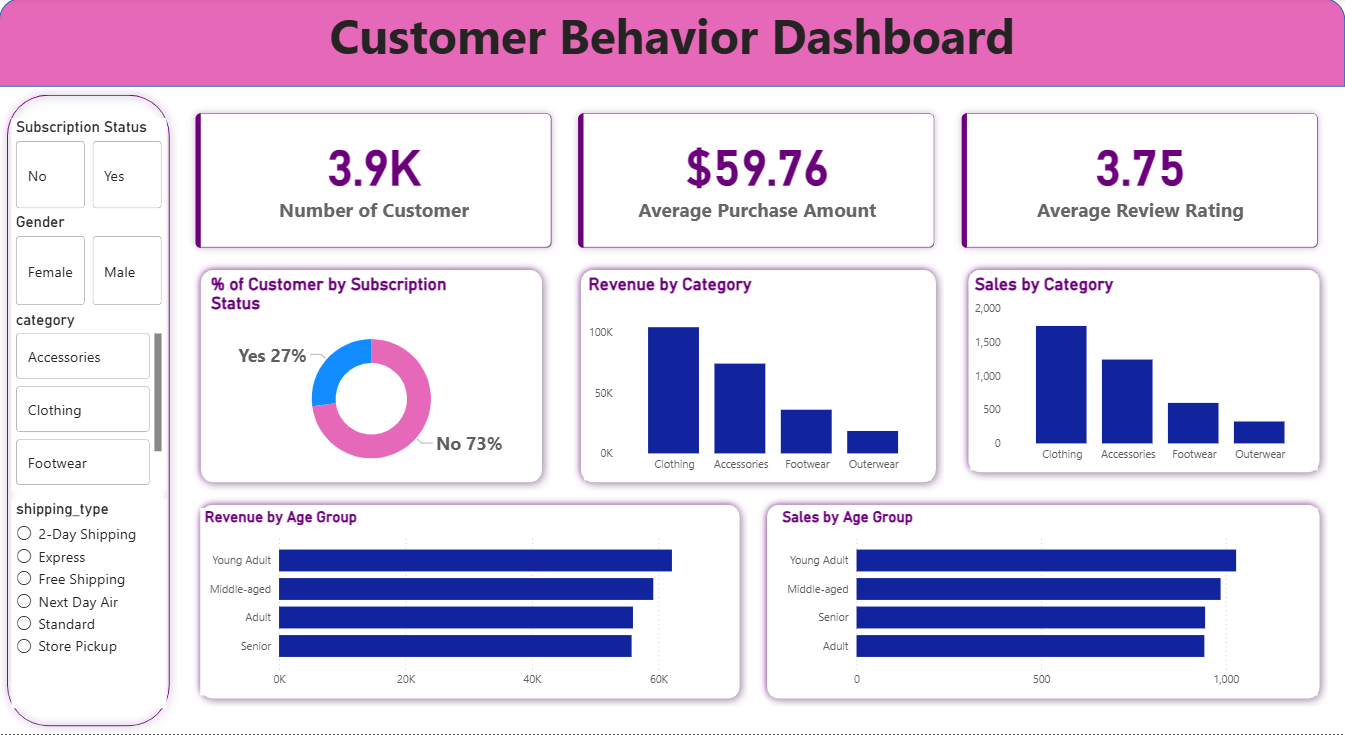

This screenshot's page, from the dashboard's own definition file:
{"tool":"powerbi","page":{"name":"Page 1","canvas":[1500,820],"ordinal":0},"visuals":[{"type":"cardVisual","fields":{"Data":["customer_behavior customer.Number of Customer","customer_behavior customer.Average Purchase Amount","customer_behavior customer.Average Review Rating"]},"box":[189.4,98.9,1310.5,208.9],"z":0},{"type":"shape","box":[0,0,1499.9,98.9],"z":1},{"type":"textbox","box":[0,0,1499.9,98.9],"z":2},{"type":"shape","box":[215.9,293.9,398.3,254.9],"z":3},{"type":"donutChart","title":"% of Customer by Subscription Status","fields":{"Category":["customer_behavior customer.subscription_status"],"Y":["CountNonNull(customer_behavior customer.customer_id)"]},"box":[231.2,307.8,367.7,229.8],"z":4},{"type":"shape","box":[639.2,293.9,413.6,254.9],"z":5},{"type":"shape","box":[1071,293.9,409.4,243.7],"z":6},{"type":"clusteredColumnChart","title":"Revenue by Category","fields":{"Y":["Sum(customer_behavior customer.purchase_amount)"],"Category":["customer_behavior customer.category"]},"box":[651.8,307.8,387.2,229.8],"z":7},{"type":"clusteredColumnChart","title":"Sales by Category","fields":{"Y":["CountNonNull(customer_behavior customer.purchase_amount)"],"Category":["customer_behavior customer.category"]},"box":[1082.1,307.8,387.2,218.6],"z":8},{"type":"shape","box":[0,98.9,199.2,721.4],"z":9},{"type":"advancedSlicerVisual","fields":{"Values":["customer_behavior customer.subscription_status"]},"box":[13.9,133.7,172.7,105.8],"z":10},{"type":"advancedSlicerVisual","fields":{"Values":["customer_behavior customer.gender"]},"box":[13.9,239.5,172.7,108.6],"z":11},{"type":"listSlicer","fields":{"Values":["customer_behavior customer.shipping_type"]},"box":[13.9,558.5,172.7,232.6],"z":13},{"type":"advancedSlicerVisual","fields":{"Values":["customer_behavior customer.category"]},"box":[13.9,348.2,172.7,200.5],"z":14},{"type":"shape","box":[846.7,555.7,633.7,234],"z":17},{"type":"clusteredBarChart","title":"Sales by Age Group","fields":{"Category":["customer_behavior customer.age_group"],"Y":["CountNonNull(customer_behavior customer.customer_id)"]},"box":[867.6,568.2,601.6,208.9],"z":18},{"type":"shape","box":[215.9,555.7,618.3,234],"z":19},{"type":"clusteredBarChart","title":"Revenue by Age Group","fields":{"Category":["customer_behavior customer.age_group"],"Y":["Sum(customer_behavior customer.purchase_amount)"]},"box":[224.2,568.2,596.1,208.9],"z":20}]}

Visuals, with their boxes in screenshot pixels (x1, y1, x2, y2), scaled from the page's 1500x820 canvas onto the 1345x735 screenshot:
cardVisual - customer_behavior customer.Number of Customer x customer_behavior customer.Average Purchase Amount: {"x1": 170, "y1": 89, "x2": 1344, "y2": 276}
shape: {"x1": 0, "y1": 0, "x2": 1344, "y2": 89}
textbox: {"x1": 0, "y1": 0, "x2": 1344, "y2": 89}
shape: {"x1": 194, "y1": 263, "x2": 551, "y2": 492}
"% of Customer by Subscription Status" donutChart: {"x1": 207, "y1": 276, "x2": 537, "y2": 482}
shape: {"x1": 573, "y1": 263, "x2": 944, "y2": 492}
shape: {"x1": 960, "y1": 263, "x2": 1327, "y2": 482}
"Revenue by Category" clusteredColumnChart: {"x1": 584, "y1": 276, "x2": 932, "y2": 482}
"Sales by Category" clusteredColumnChart: {"x1": 970, "y1": 276, "x2": 1317, "y2": 472}
shape: {"x1": 0, "y1": 89, "x2": 179, "y2": 734}
advancedSlicerVisual - customer_behavior customer.subscription_status: {"x1": 12, "y1": 120, "x2": 167, "y2": 215}
advancedSlicerVisual - customer_behavior customer.gender: {"x1": 12, "y1": 215, "x2": 167, "y2": 312}
listSlicer - customer_behavior customer.shipping_type: {"x1": 12, "y1": 501, "x2": 167, "y2": 709}
advancedSlicerVisual - customer_behavior customer.category: {"x1": 12, "y1": 312, "x2": 167, "y2": 492}
shape: {"x1": 759, "y1": 498, "x2": 1327, "y2": 708}
"Sales by Age Group" clusteredBarChart: {"x1": 778, "y1": 509, "x2": 1317, "y2": 697}
shape: {"x1": 194, "y1": 498, "x2": 748, "y2": 708}
"Revenue by Age Group" clusteredBarChart: {"x1": 201, "y1": 509, "x2": 736, "y2": 697}
